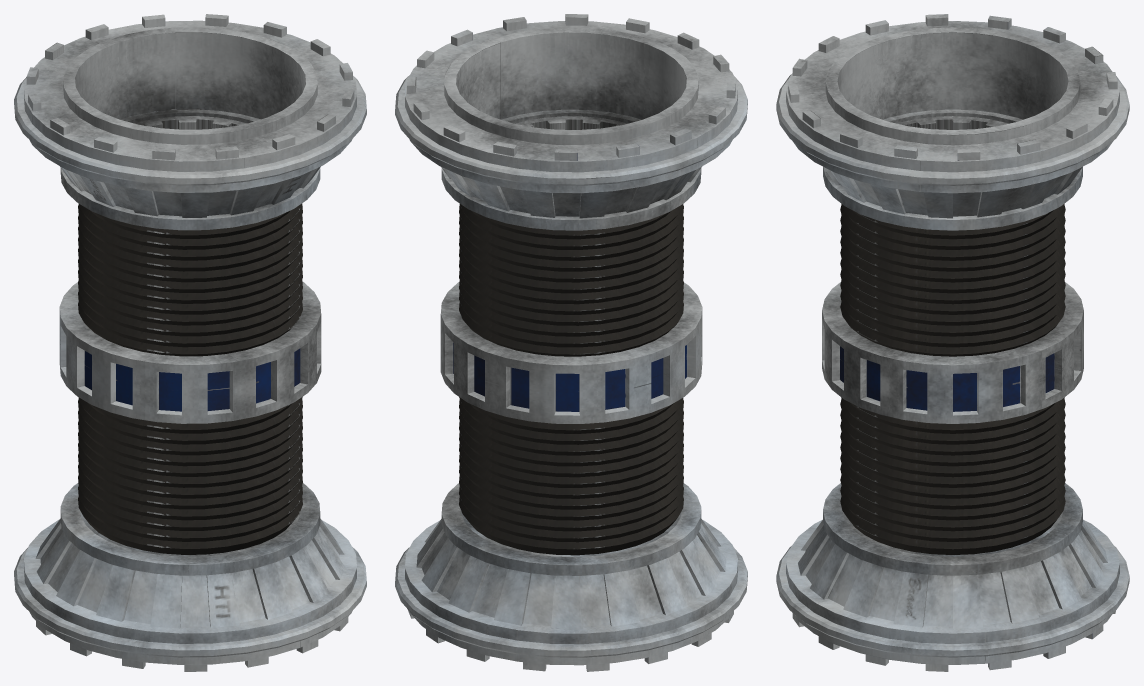
Rendered from Connector_0deg.obj.
The picture shows the model from 3 angles, left to right: view 1: azimuth 30°, elevation 25°; view 2: azimuth 150°, elevation 25°; view 3: azimuth 270°, elevation 25°; orthographic projection.
Visible parts, largest first — view 1: Connector_0deg; view 2: Connector_0deg; view 3: Connector_0deg.
Part boxes in pixels (left/top/right/bottom): Connector_0deg: left=14, top=14, right=366, bottom=671; Connector_0deg: left=395, top=14, right=747, bottom=671; Connector_0deg: left=776, top=14, right=1129, bottom=671.
Size of the model in its own units: 0.4442 by 0.7264 by 0.4442.
